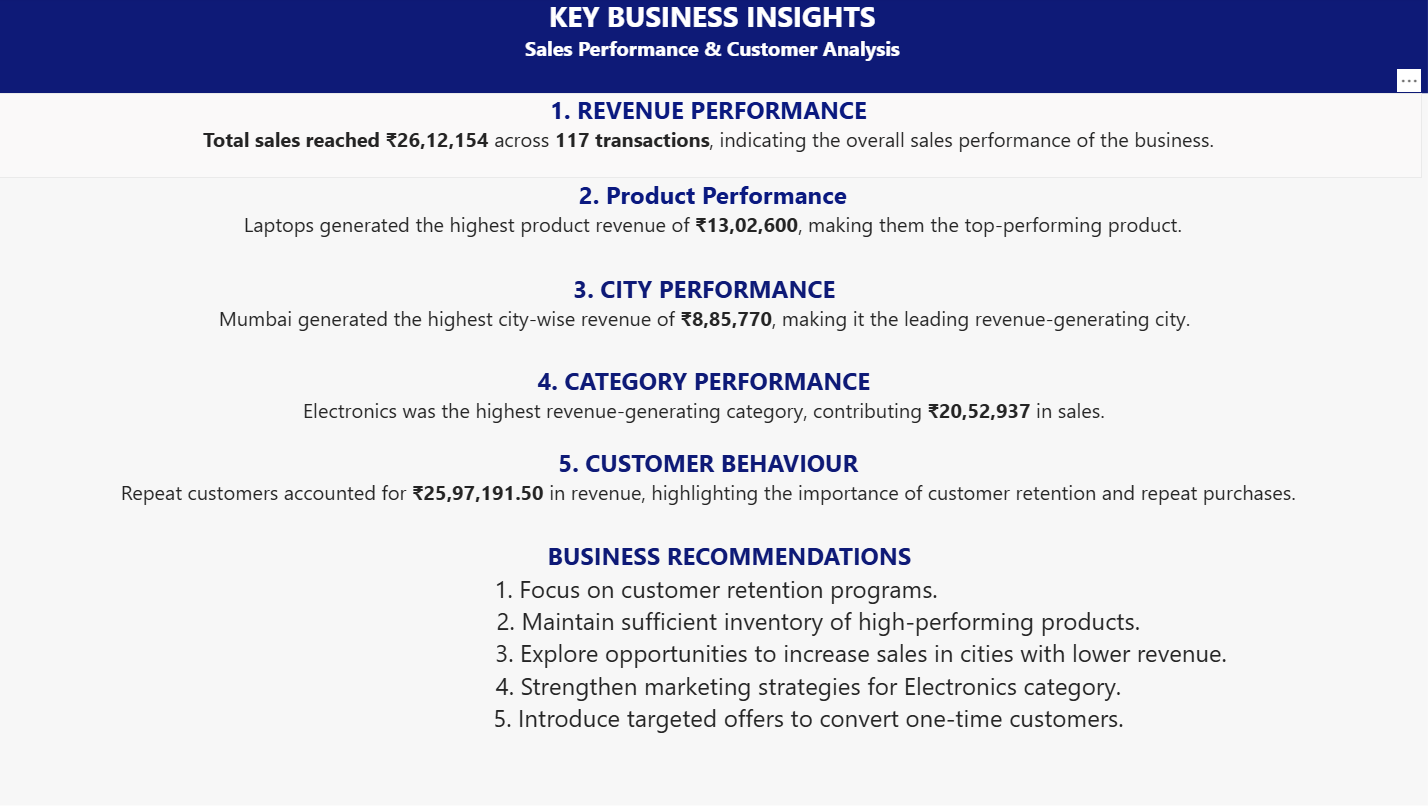

The page's visual inventory and layout, read from the dashboard file:
{"tool":"powerbi","page":{"name":"Key Insights & Recommendations","canvas":[1920,1080],"ordinal":2},"visuals":[{"type":"textbox","box":[10.3,0,1908.2,128.2],"z":0},{"type":"textbox","box":[10,290,280,280],"z":1000},{"type":"textbox","box":[10.3,128.2,1897.9,112],"z":2000},{"type":"textbox","box":[11.8,240.2,1906.7,125.2],"z":3000},{"type":"textbox","box":[0,365.4,1908.2,122.3],"z":4000},{"type":"textbox","box":[0,487.7,1906.7,109],"z":5000},{"type":"textbox","box":[0,596.8,1918.5,123.8],"z":6000},{"type":"textbox","box":[11.8,720.6,1906.7,331.5],"z":7000}]}

Visuals, with their boxes in screenshot pixels (x1, y1, x2, y2), scaled from the page's 1920x1080 canvas onto the 1428x806 screenshot:
textbox: select_region(8, 0, 1427, 96)
textbox: select_region(7, 216, 216, 425)
textbox: select_region(8, 96, 1419, 179)
textbox: select_region(9, 179, 1427, 273)
textbox: select_region(0, 273, 1419, 364)
textbox: select_region(0, 364, 1418, 445)
textbox: select_region(0, 445, 1427, 538)
textbox: select_region(9, 538, 1427, 785)
